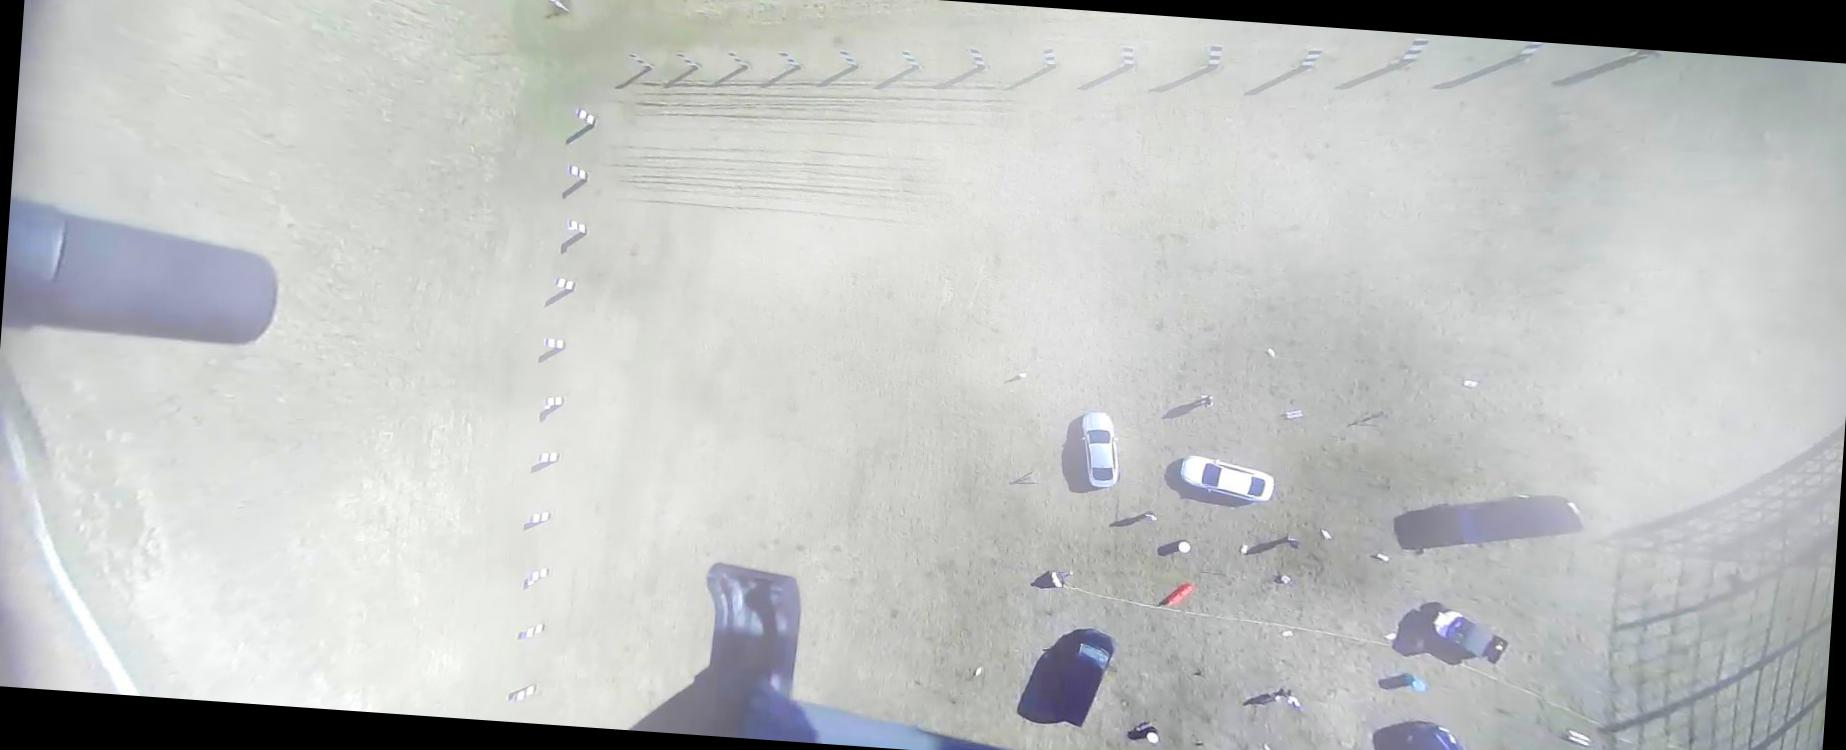vehicle: (1432, 487, 1587, 558), (1049, 628, 1117, 731), (1427, 606, 1513, 668), (1178, 456, 1276, 503), (1077, 411, 1123, 489), (1401, 721, 1496, 749)
